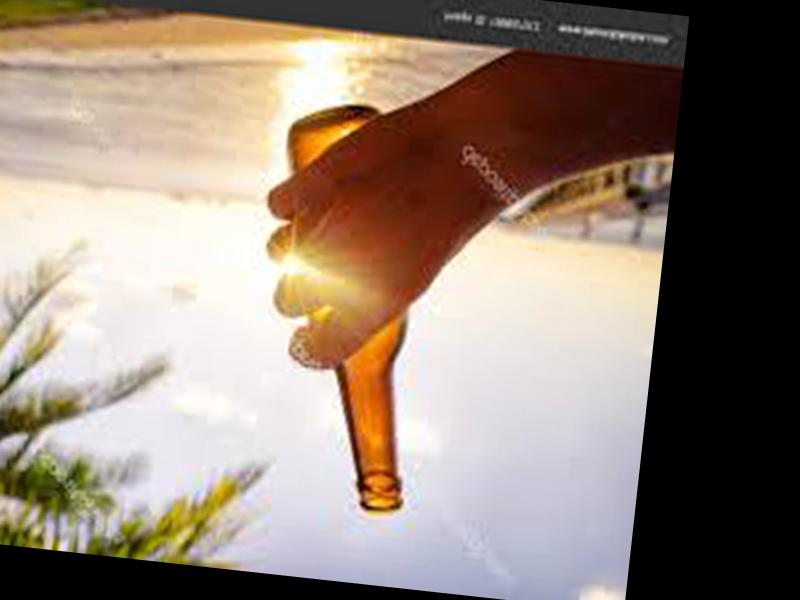Beer: (248, 98, 446, 515)
